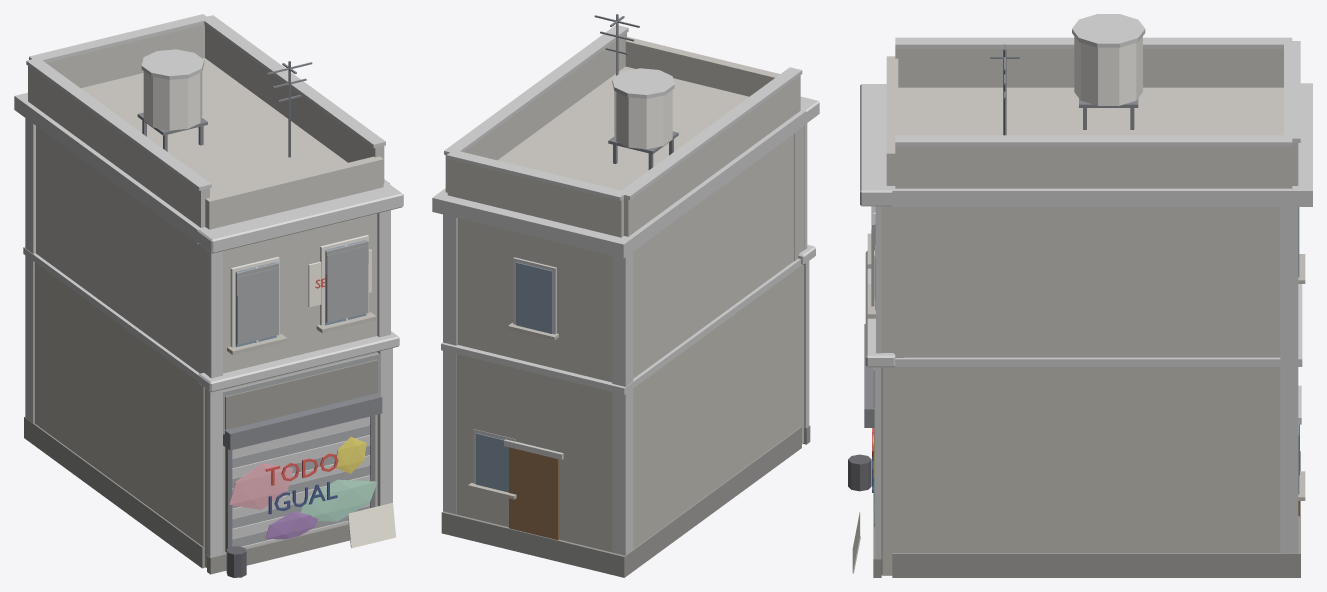
File: env_shop_closed_01.glb
3 renders of one model, left to right at view 1: azimuth 30°, elevation 25°; view 2: azimuth 150°, elevation 25°; view 3: azimuth 270°, elevation 25°, orthographic. The views are drawn at different scales.
Visible parts, largest first — view 1: env_shop_closed_01_body; view 2: env_shop_closed_01_body; view 3: env_shop_closed_01_body.
Part boxes in pixels (bbox=[...]): env_shop_closed_01_body: bbox=[14, 14, 403, 577]; env_shop_closed_01_body: bbox=[432, 14, 819, 577]; env_shop_closed_01_body: bbox=[848, 14, 1312, 577].
Size of the model in its own units: 4.3 by 9.37 by 7.85.
